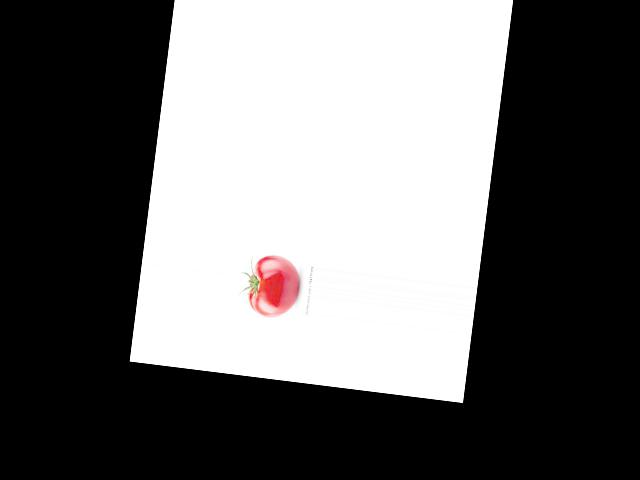tomato: (246, 252, 302, 320)
